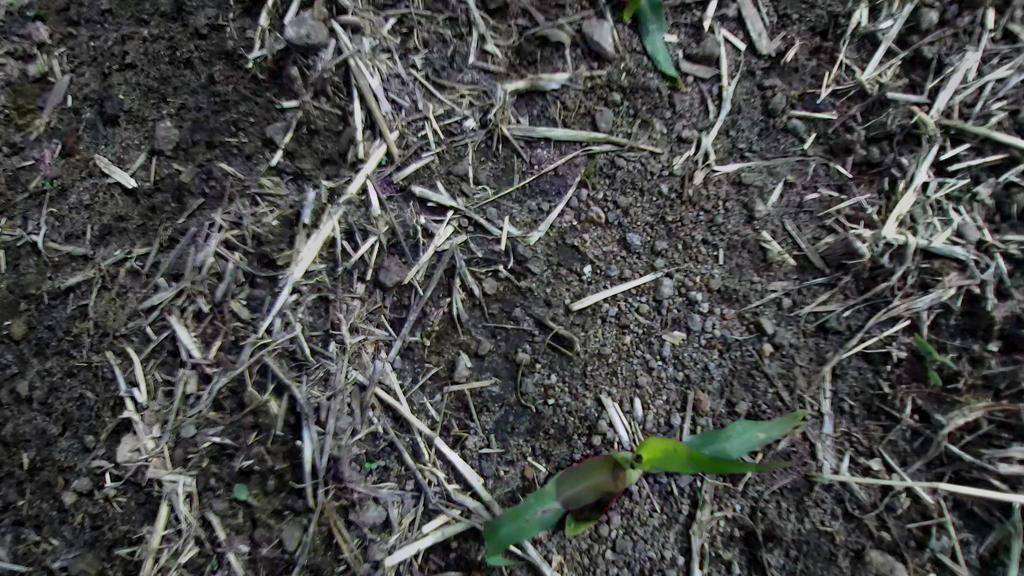BroWeed: (894, 332, 960, 395), (228, 479, 261, 516), (209, 557, 220, 571), (364, 462, 377, 470), (50, 178, 58, 187), (44, 181, 51, 188)
Maize: (462, 381, 822, 576)
NarWeed: (575, 157, 596, 187)
